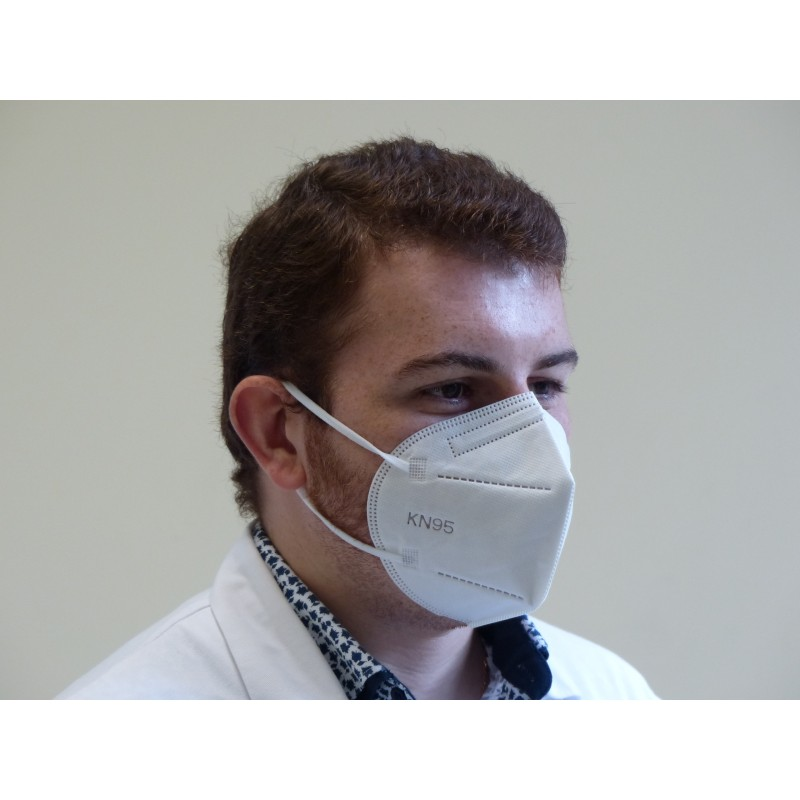with_mask: (263, 259, 569, 652)
